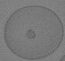small: (27, 30, 36, 40)
